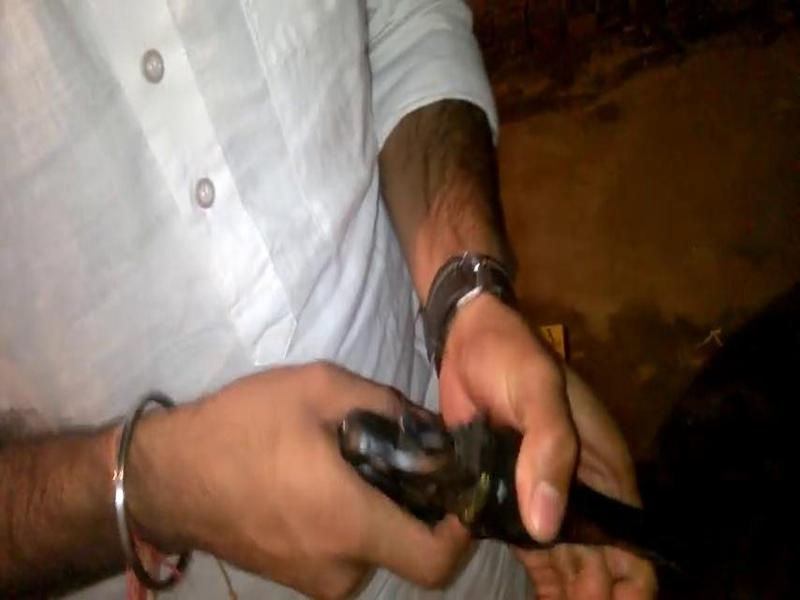Revolver: (270, 362, 731, 600)
